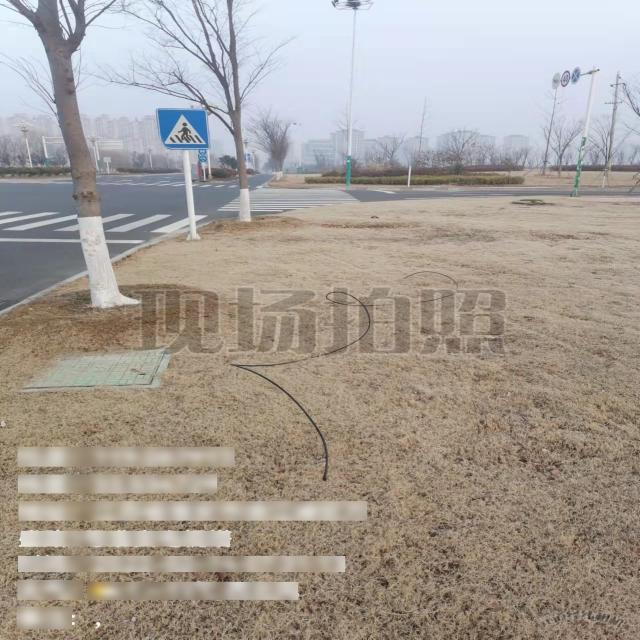Good: (18, 346, 170, 392)
